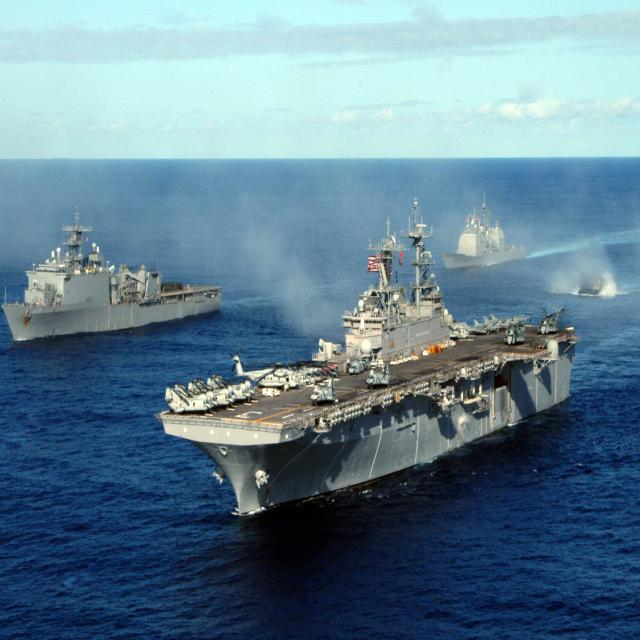navalvessels: (154, 242, 606, 512), (0, 204, 244, 342), (443, 192, 528, 278)
